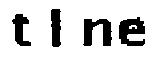e: (115, 15, 148, 50)
l: (46, 6, 67, 48)
n: (74, 14, 113, 49)
t: (10, 10, 32, 51)
